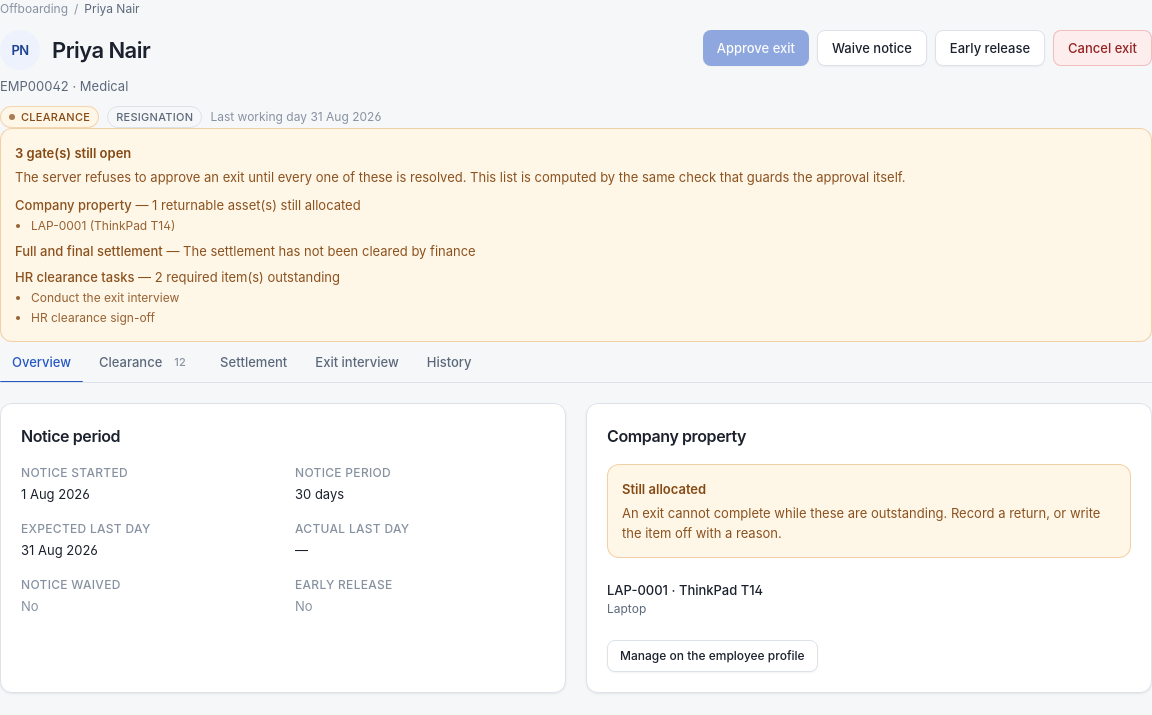
Test: The settlement panel › shows the ledger and the net payable
Click the tab "Settlement" at (254, 362), box top-left (208, 342), bottom-right (299, 382)
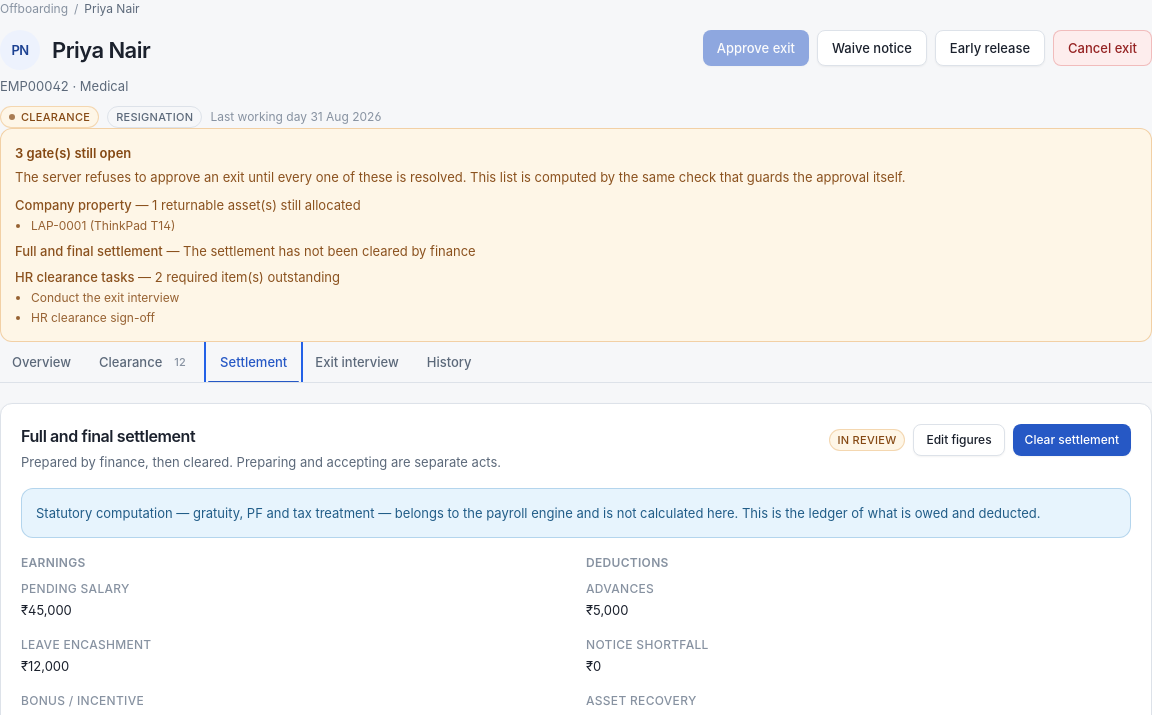
Expected: the heading "Full and final settlement" is shown, top-left (21, 426), bottom-right (195, 446)
Expected: the text "belongs to the payroll engine" is shown, top-left (36, 505), bottom-right (1041, 521)
